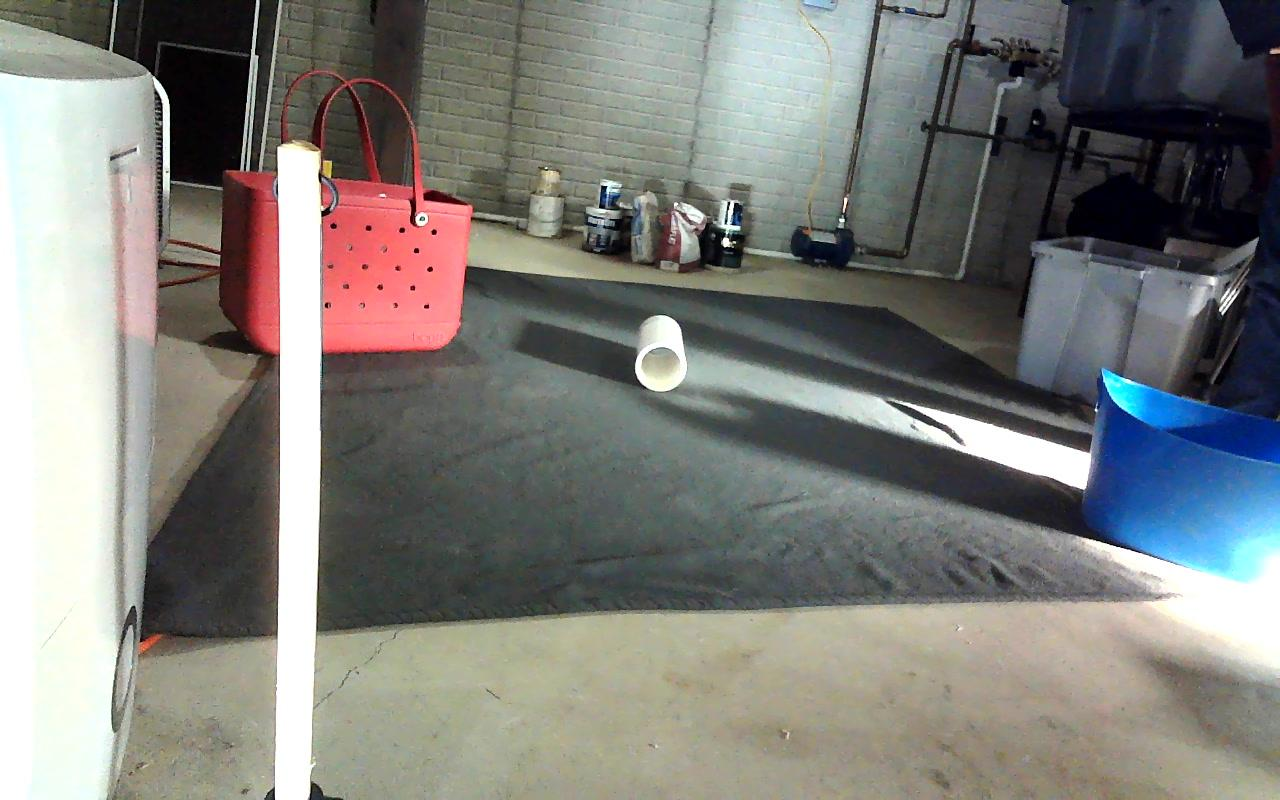coral: (632, 316, 687, 392)
